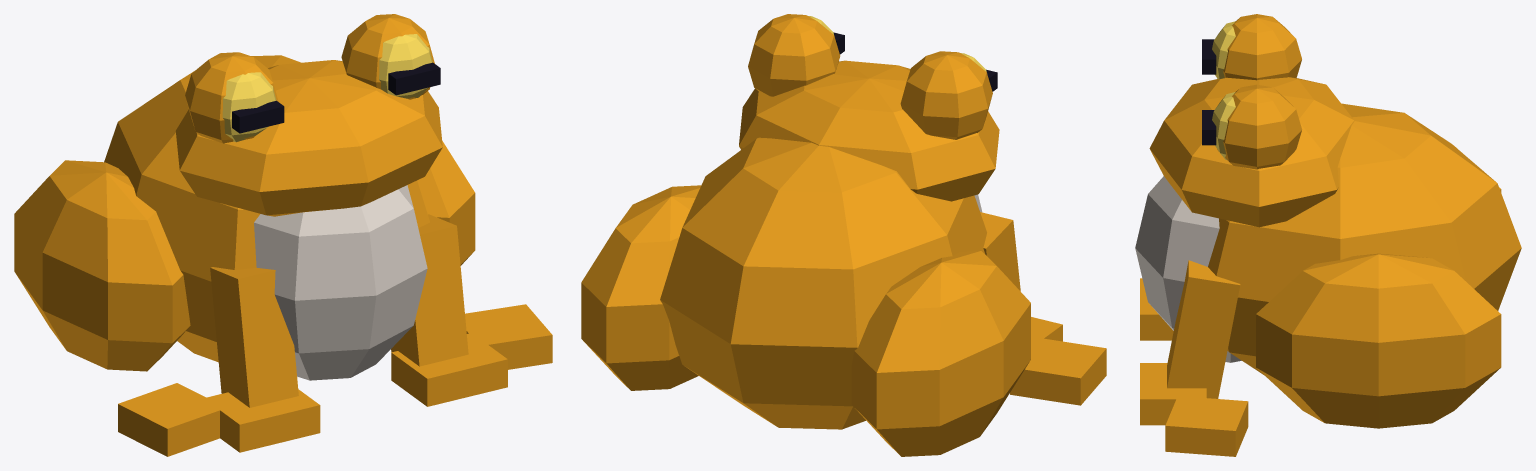
The model's file is frog_gold.glb.
3 views of the same model, side by side, from view 1: azimuth 30°, elevation 25°; view 2: azimuth 150°, elevation 25°; view 3: azimuth 270°, elevation 25° (orthographic). The views are drawn at different scales.
Parts seen in each view (by area): view 1: Frog; view 2: Frog; view 3: Frog.
Part boxes in pixels (x1,y1,x2,y2): Frog: (14,14,552,456); Frog: (581,14,1106,456); Frog: (1135,14,1521,456).
Size of the model in its own units: 0.9138 by 0.75 by 0.81.
